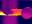Hotspot: (0, 10, 6, 16)
